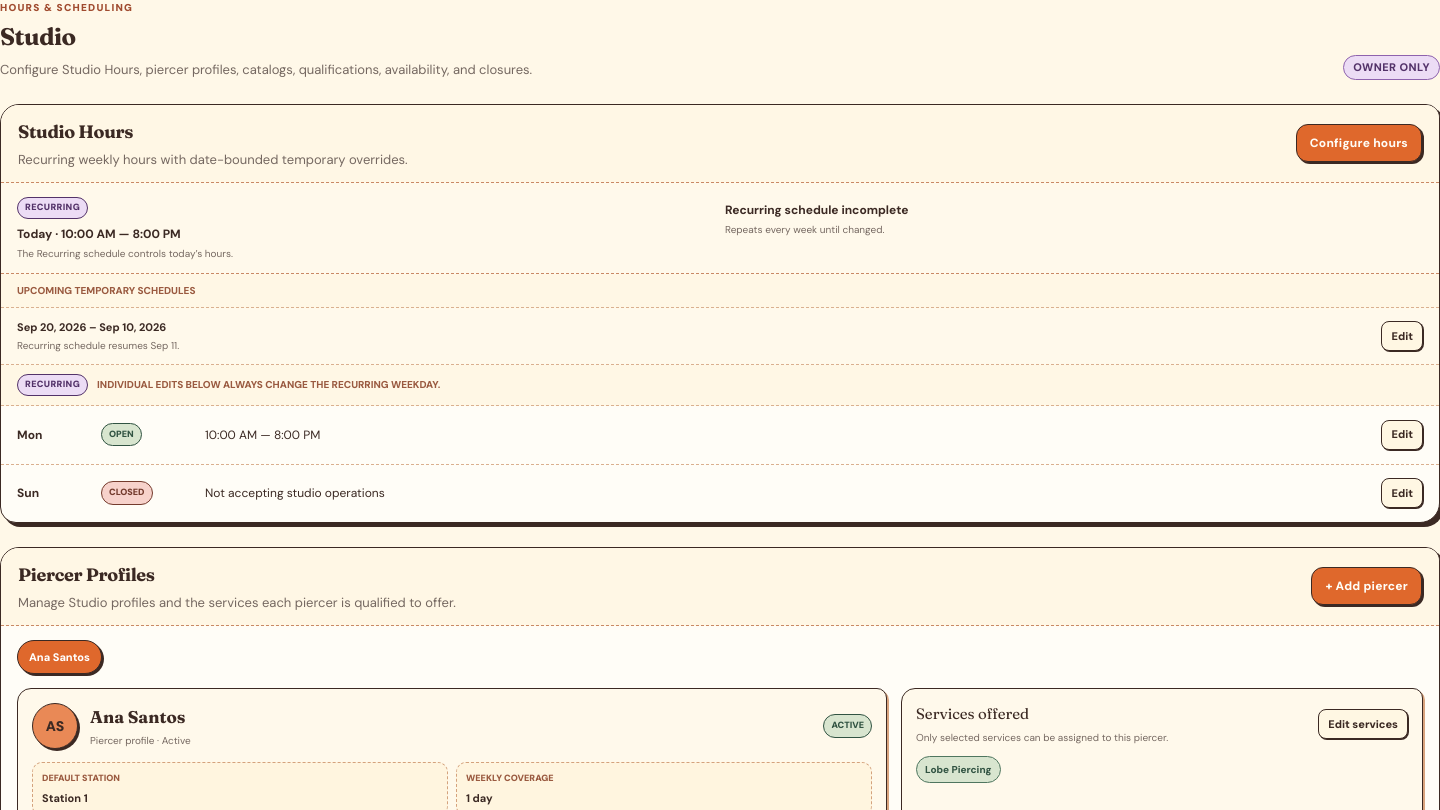
Test: Configure Studio Hours workflow › rejects a temporary start date after its end date
The width and height of the screenshot is (1440, 810).
Click the button named "Edit temporary Studio schedule from Sep 20, 2026 to Sep 10, 2026": (1402, 336) x1=1382 y1=321 x2=1423 y2=351
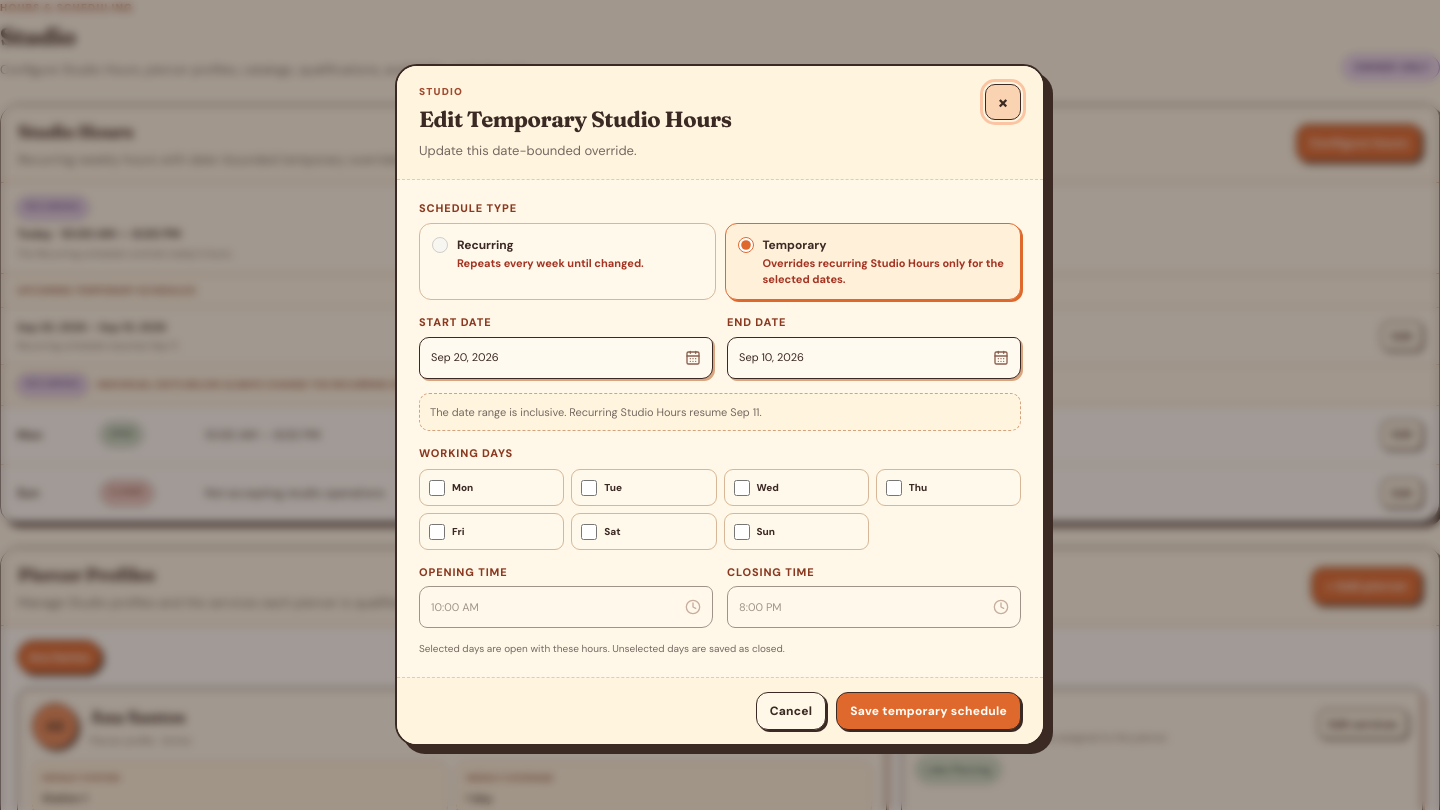
Click the button "Save temporary schedule": (929, 711) x1=836 y1=692 x2=1021 y2=730
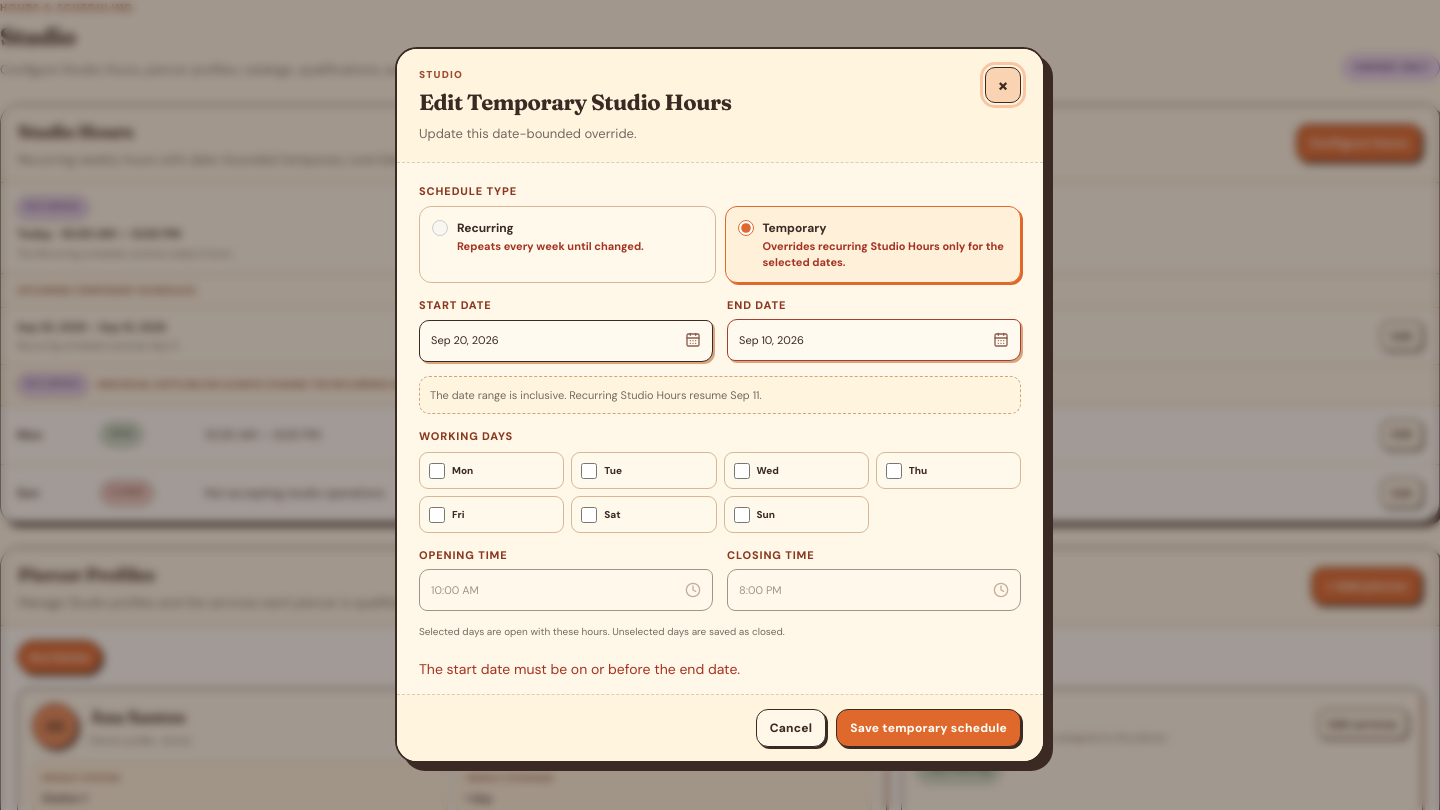
Check: the message shows "start date must be on or before the end date", box x1=419 y1=660 x2=740 y2=678
